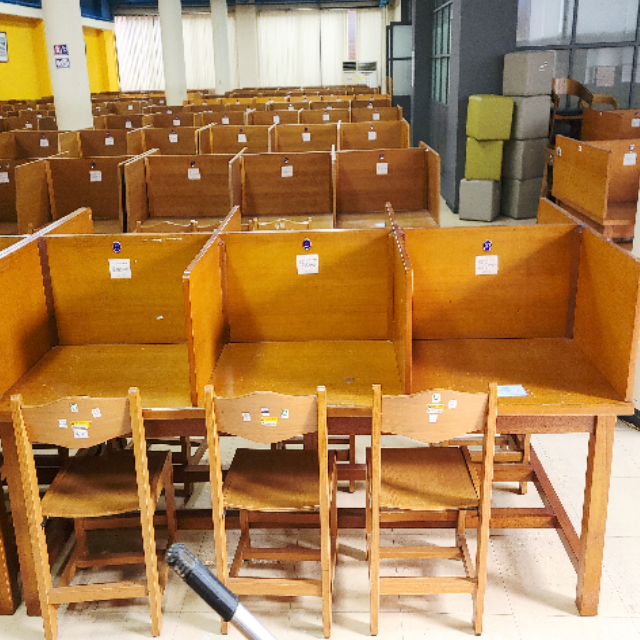empty: (205, 201, 420, 519), (431, 200, 635, 516), (3, 214, 197, 513)
